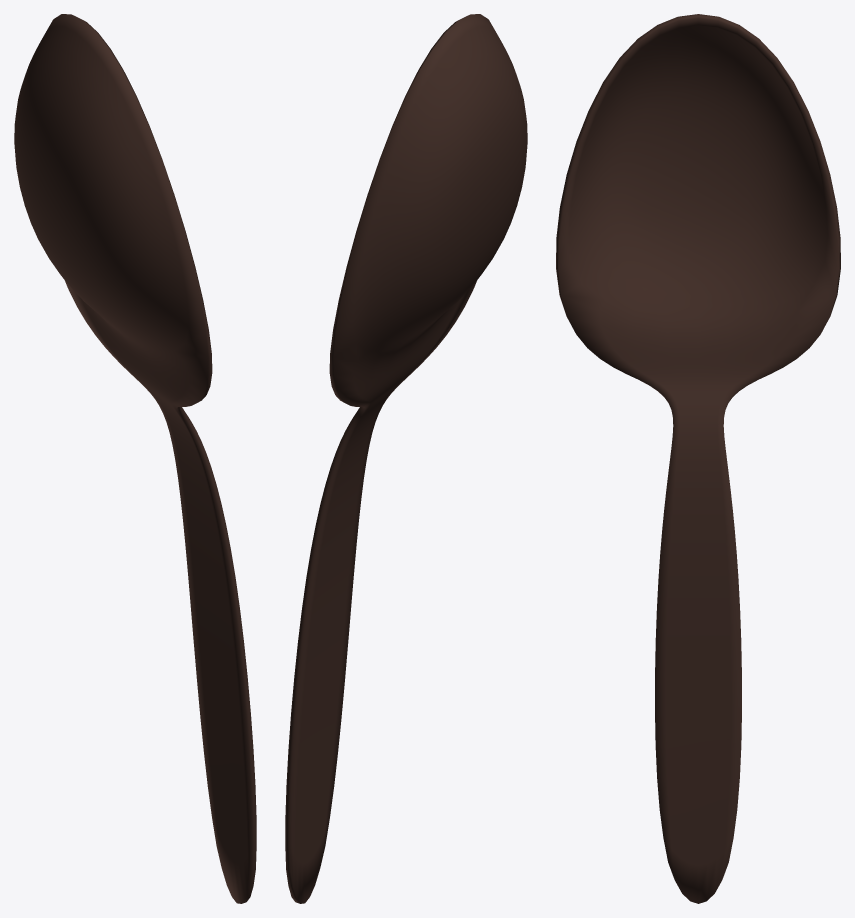
The model's file is Spoon.fbx.
The picture shows the model from 3 angles, left to right: view 1: azimuth 30°, elevation 25°; view 2: azimuth 150°, elevation 25°; view 3: azimuth 270°, elevation 25°; orthographic projection. The views are drawn at different scales.
Parts seen in each view (by area): view 1: 平面; view 2: 平面; view 3: 平面.
Part boxes in pixels (x1=…): 平面: x1=14, y1=14, x2=256, y2=903; 平面: x1=285, y1=14, x2=527, y2=903; 平面: x1=556, y1=14, x2=840, y2=903.
Bounding box in the file's own units: 115 × 511 × 161.
